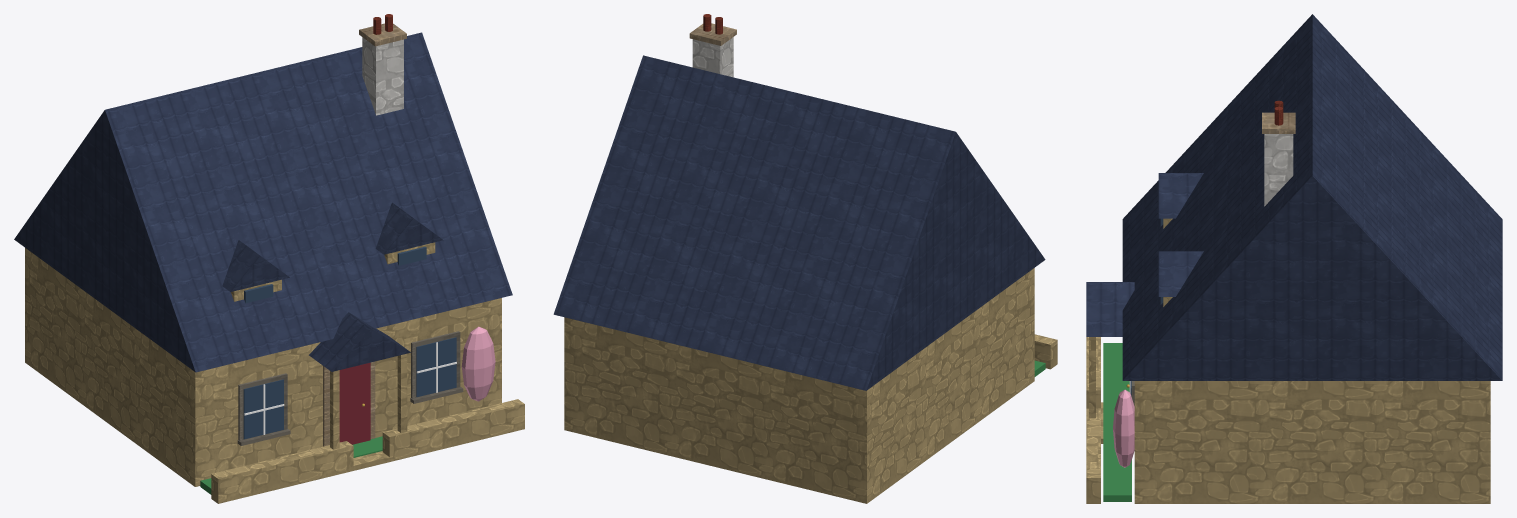
File: pedra_w8_2.gltf
3 views of the same model, side by side, from view 1: azimuth 30°, elevation 25°; view 2: azimuth 150°, elevation 25°; view 3: azimuth 270°, elevation 25° (orthographic). The views are drawn at different scales.
Parts seen in each view (by area): view 1: pedra_w8_2; view 2: pedra_w8_2; view 3: pedra_w8_2.
Boxes of the visible parts, x1=… form: pedra_w8_2: x1=14, y1=14, x2=524, y2=503; pedra_w8_2: x1=553, y1=14, x2=1057, y2=503; pedra_w8_2: x1=1086, y1=14, x2=1502, y2=503.
Size of what is drawn, in the model's own units: 7.96 by 8.7 by 8.65.
Materials: 7 (4 with a texture image).
